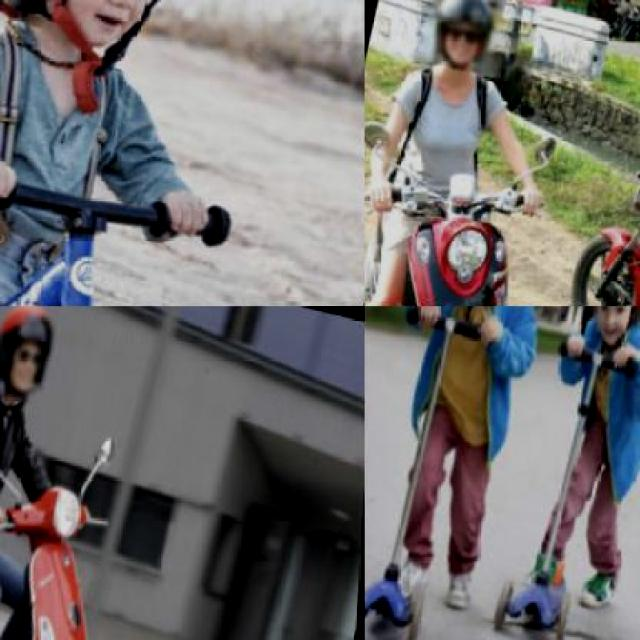With Helmet: (0, 0, 208, 71), (418, 0, 511, 77), (0, 306, 66, 405), (572, 306, 638, 346)
